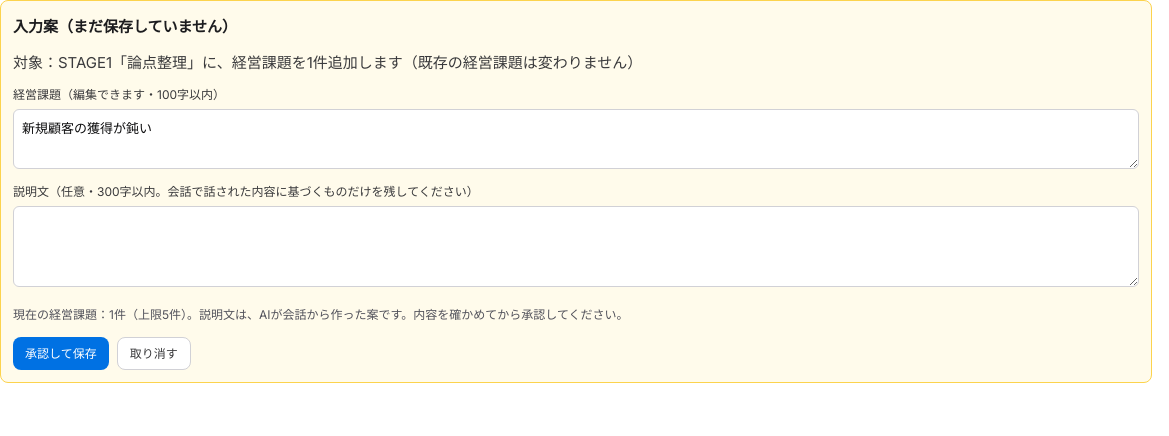
Test: 入力案の承認：STAGE1 経営課題の追加 › 承認API（権限・所属）が拒否したら、保存しない
Click the button "承認して保存".
click(61, 353)  # box [13,337,109,370]
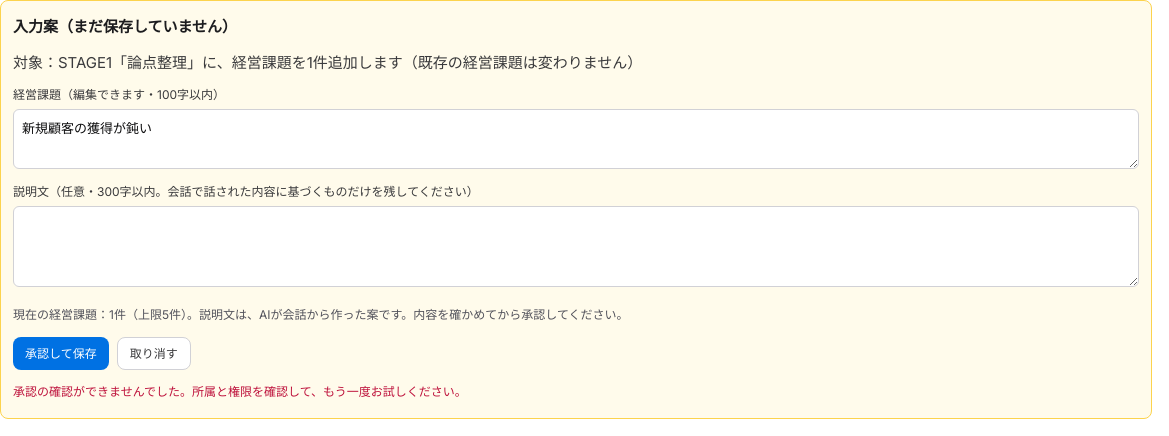
Now the text "承認の確認ができませんでした。所属と権限を確認して、もう一度お試しください。" is shown, box [13,384,467,399]
